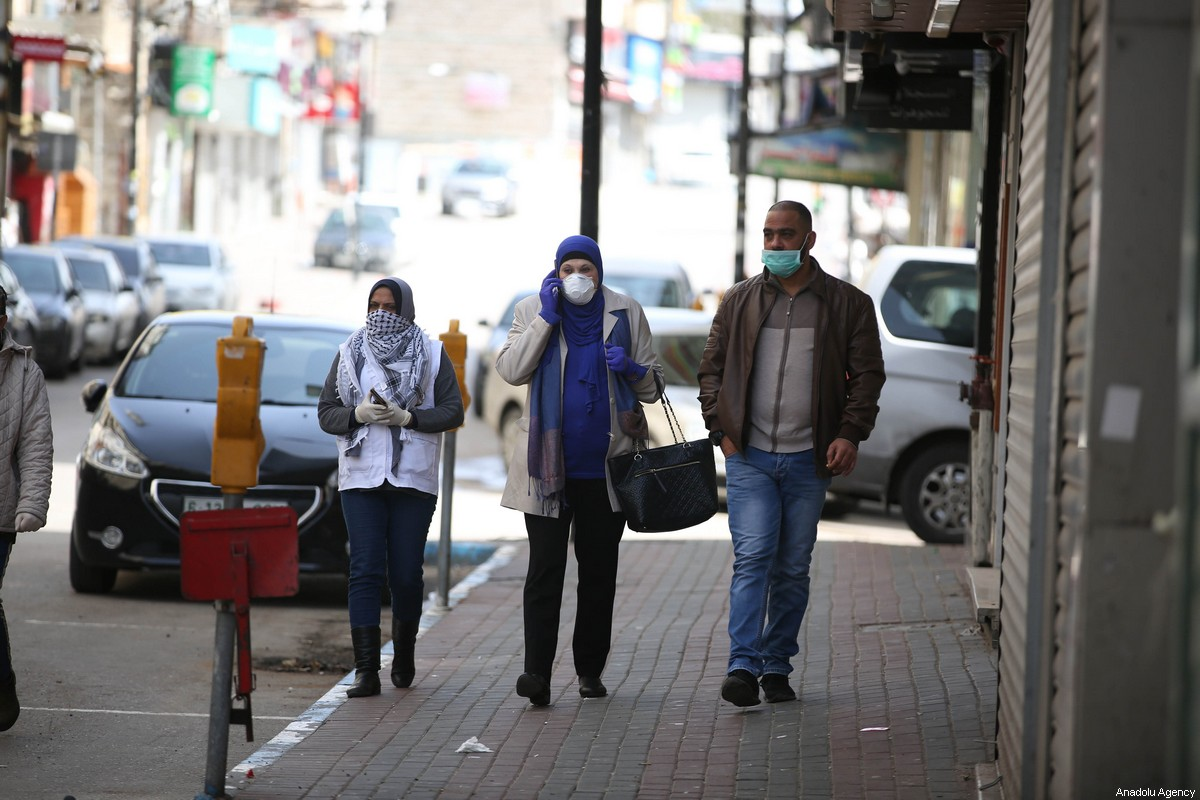Person: (690, 200, 894, 732), (490, 227, 673, 725), (313, 276, 464, 702)
